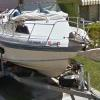Boat: (3, 3, 94, 79)
